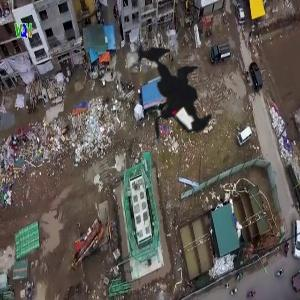drone: (86, 14, 247, 175)
